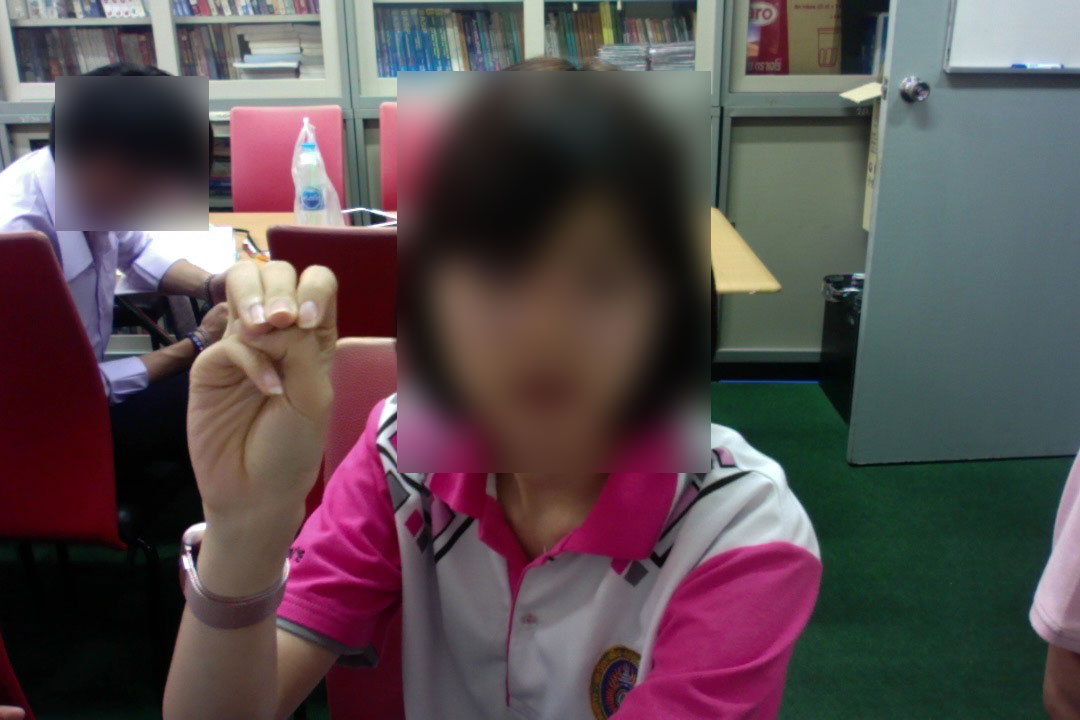mor: (186, 257, 338, 514)
